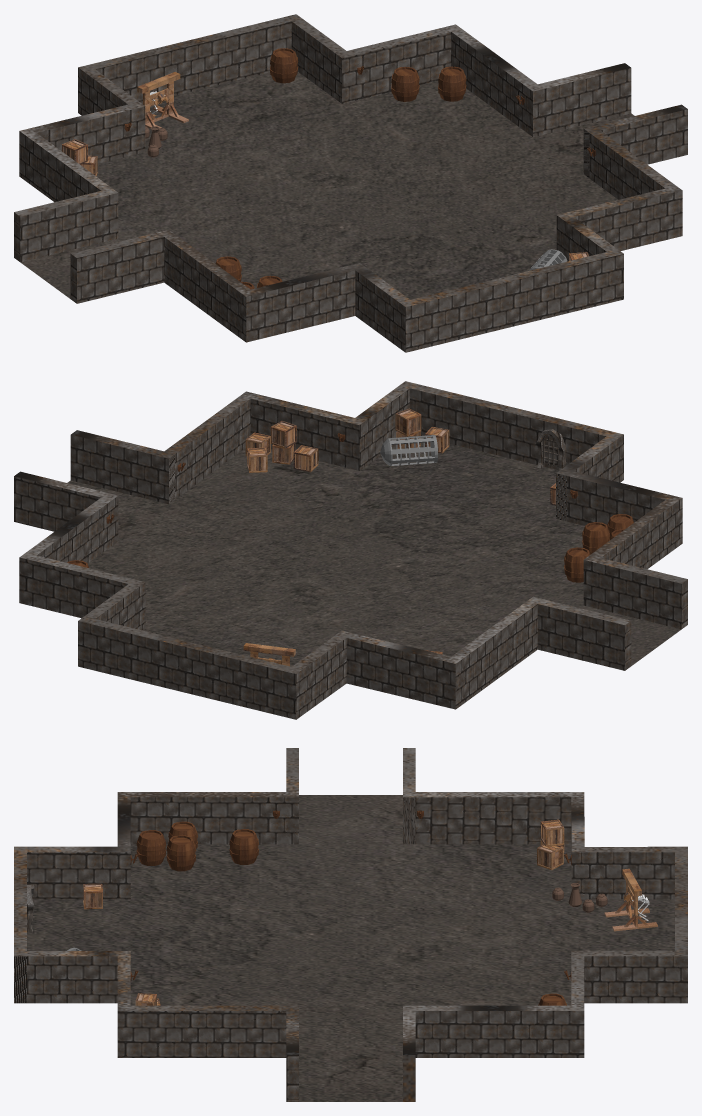
Rendered from room_I.glb.
3 renders of one model, top to bottom at view 1: azimuth 30°, elevation 25°; view 2: azimuth 150°, elevation 25°; view 3: azimuth 270°, elevation 25°, orthographic. The views are drawn at different scales.
Visible parts, largest first — view 1: Plane.001, Plane.003, Cube.015, beczka.004, beczka.005, beczka.001; view 2: Plane.001, Plane.003, Cylinder.016, Cube.003, beczka.006, beczka.007, Cube.015, Cube.004, Cube.009, Cube.002, Cube.006; view 3: Plane.003, Plane.001, Cube.015, beczka.007, beczka.006, beczka.003, Cube.014, Cube.
Boxes of the visible parts, x1,y1,x2,y2 form: Plane.001: (14,14,687,352); Plane.003: (20,72,634,299); Cube.015: (137,72,188,128); beczka.004: (391,66,419,101); beczka.005: (438,66,466,101); beczka.001: (270,48,298,83); Plane.001: (14,381,687,719); Plane.003: (67,437,681,666); Cylinder.016: (380,435,437,465); Cube.003: (536,429,566,470); beczka.006: (564,547,590,582); beczka.007: (582,522,609,554); Cube.015: (243,643,295,666); Cube.004: (270,421,296,448); Cube.009: (395,408,421,436); Cube.002: (293,445,318,472); Cube.006: (247,447,267,472); Plane.003: (27,795,674,1101); Plane.001: (14,748,687,1101); Cube.015: (604,868,657,931); beczka.007: (166,835,196,871); beczka.006: (229,829,258,864); beczka.003: (136,830,166,865); Cube.014: (540,819,564,846); Cube: (537,844,563,870).
Size of the model in its own units: 28 by 2.05 by 26.
Materials: 7 (4 with a texture image).
